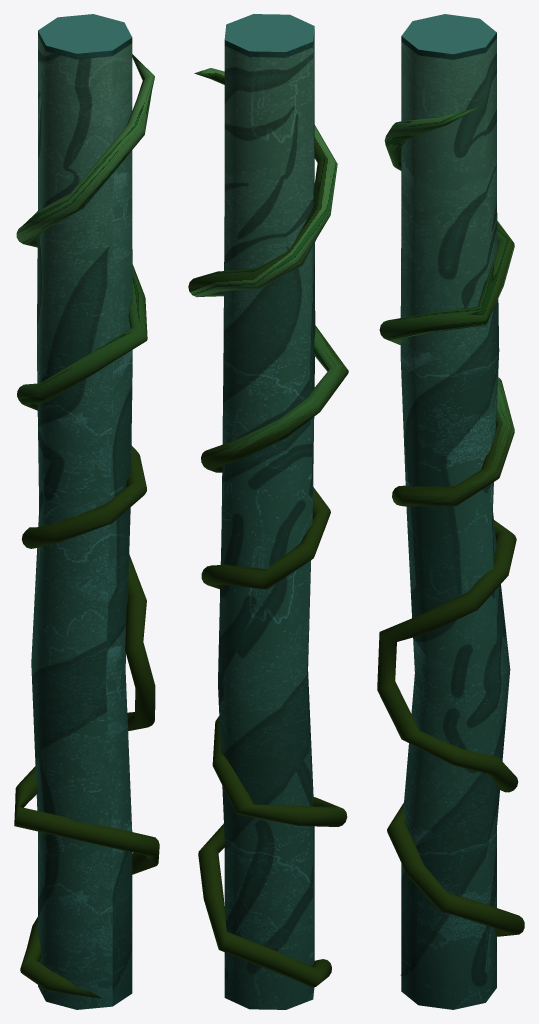
The model's file is liaan1.FBX.
3 renders of one model, left to right at view 1: azimuth 30°, elevation 25°; view 2: azimuth 150°, elevation 25°; view 3: azimuth 270°, elevation 25°, orthographic.
Visible parts, largest first — view 1: Cylinder012, Cylinder013; view 2: Cylinder012, Cylinder013; view 3: Cylinder012, Cylinder013.
Boxes of the visible parts, x1,y1,x2,y2 form: Cylinder012: (31, 14, 132, 1009); Cylinder013: (14, 54, 159, 998); Cylinder012: (218, 14, 315, 1009); Cylinder013: (188, 68, 348, 987); Cylinder012: (400, 14, 510, 1009); Cylinder013: (377, 107, 524, 975).
Bounding box in the file's own units: 33.1 × 208 × 29.1.
